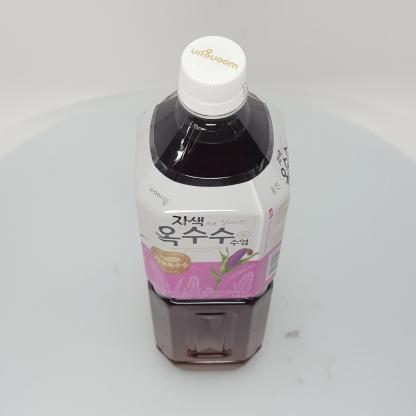----------1-5L: (135, 36, 290, 371)
